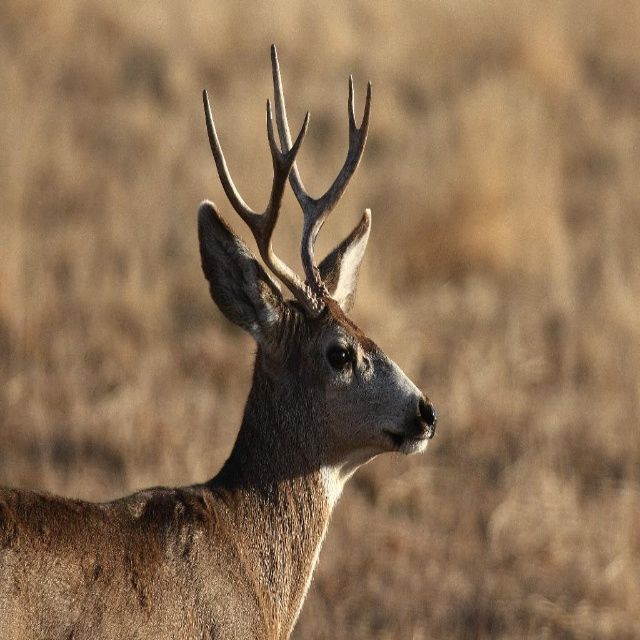Deer: (0, 43, 437, 639)
